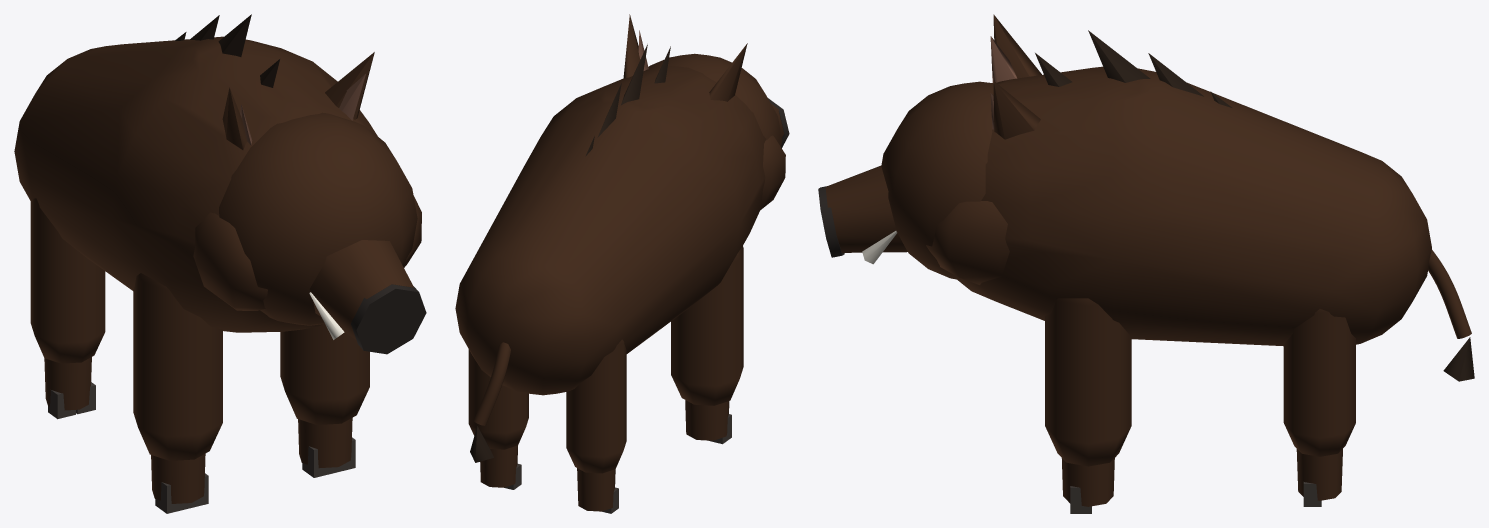
The model's file is wild-boar.glb.
3 views of the same model, side by side, from view 1: azimuth 30°, elevation 25°; view 2: azimuth 150°, elevation 25°; view 3: azimuth 270°, elevation 25° (orthographic). The views are drawn at different scales.
Parts seen in each view (by area): view 1: Mesh_Body, Mesh_Head, Mesh_LegFL_Thigh, Mesh_LegBL_Thigh, Mesh_LegFR_Thigh, Mesh_Snout, Mesh_JowlR, Mesh_NosePlate, Mesh_LegFR_Lower, Mesh_LegFL_Lower, Mesh_LegBL_Lower, Mesh_EarOuterL (+6 smaller); view 2: Mesh_Body, Mesh_LegFL_Thigh, Mesh_LegBL_Thigh, Mesh_LegBR_Thigh, Mesh_Head, Mesh_LegFL_Lower, Mesh_LegBL_Lower, Mesh_LegBR_Lower, Mesh_JowlR, Mesh_Tail, Mesh_EarOuterR, Mesh_EarOuterL (+2 smaller); view 3: Mesh_Body, Mesh_Head, Mesh_LegFR_Thigh, Mesh_LegBR_Thigh, Mesh_JowlL, Mesh_Snout, Mesh_LegFR_Lower, Mesh_LegBR_Lower, Mesh_EarOuterL, Mesh_Tail, Mesh_Spine_1, Mesh_EarOuterR (+2 smaller).
Part boxes in pixels (x1,y1,x2,y2): Mesh_Body: [14, 36, 377, 332]; Mesh_Head: [219, 112, 417, 325]; Mesh_LegFL_Thigh: [133, 273, 222, 460]; Mesh_LegBL_Thigh: [30, 198, 105, 363]; Mesh_LegFR_Thigh: [280, 324, 369, 424]; Mesh_Snout: [309, 240, 413, 339]; Mesh_JowlR: [193, 212, 267, 310]; Mesh_NosePlate: [351, 284, 426, 354]; Mesh_LegFR_Lower: [298, 418, 352, 468]; Mesh_LegFL_Lower: [151, 453, 205, 503]; Mesh_LegBL_Lower: [44, 357, 91, 410]; Mesh_EarOuterL: [325, 52, 374, 119]; Mesh_Body: [455, 66, 766, 395]; Mesh_LegFL_Thigh: [671, 246, 743, 405]; Mesh_LegBL_Thigh: [566, 339, 626, 473]; Mesh_LegBR_Thigh: [468, 349, 528, 449]; Mesh_Head: [648, 53, 782, 146]; Mesh_LegFL_Lower: [685, 400, 729, 440]; Mesh_LegBL_Lower: [577, 468, 615, 511]; Mesh_LegBR_Lower: [480, 445, 517, 487]; Mesh_JowlR: [760, 135, 785, 209]; Mesh_Tail: [473, 342, 510, 425]; Mesh_EarOuterR: [709, 43, 747, 101]; Mesh_EarOuterL: [623, 14, 640, 78]; Mesh_Body: [957, 66, 1431, 346]; Mesh_Head: [881, 81, 993, 279]; Mesh_LegFR_Thigh: [1045, 298, 1131, 466]; Mesh_LegBR_Thigh: [1283, 309, 1355, 456]; Mesh_JowlL: [926, 201, 1009, 284]; Mesh_Snout: [825, 165, 907, 252]; Mesh_LegFR_Lower: [1061, 458, 1114, 506]; Mesh_LegBR_Lower: [1296, 449, 1342, 500]; Mesh_EarOuterL: [993, 81, 1040, 139]; Mesh_Tail: [1428, 249, 1471, 338]; Mesh_Spine_1: [1088, 30, 1150, 82]; Mesh_EarOuterR: [993, 14, 1041, 78].
Size of the model in its own units: 0.76 by 1.34 by 1.81.
